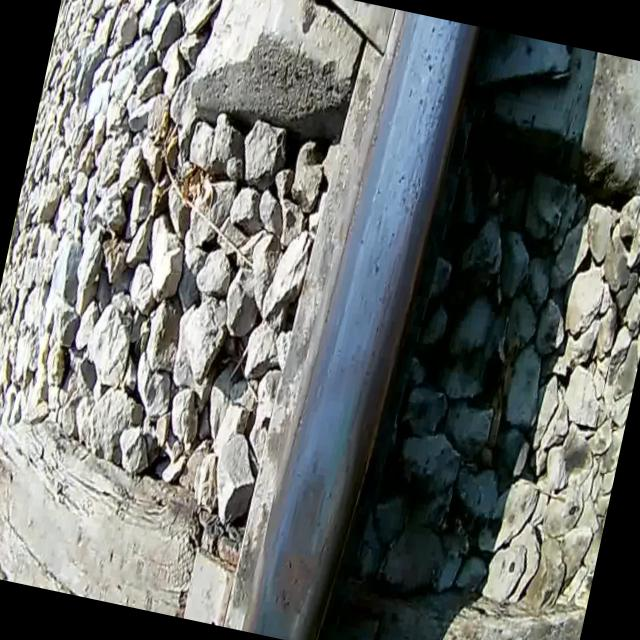Spallings: (264, 546, 306, 619)
Squats: (251, 434, 356, 640)
